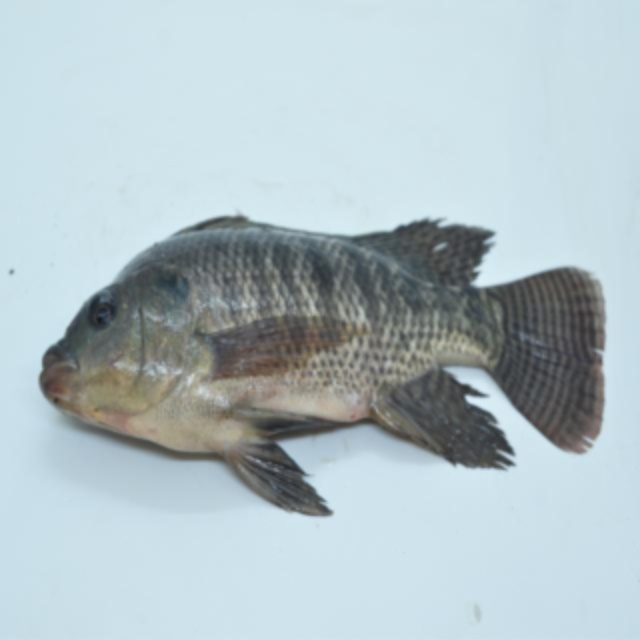Healthy Fish: (24, 212, 617, 517)
